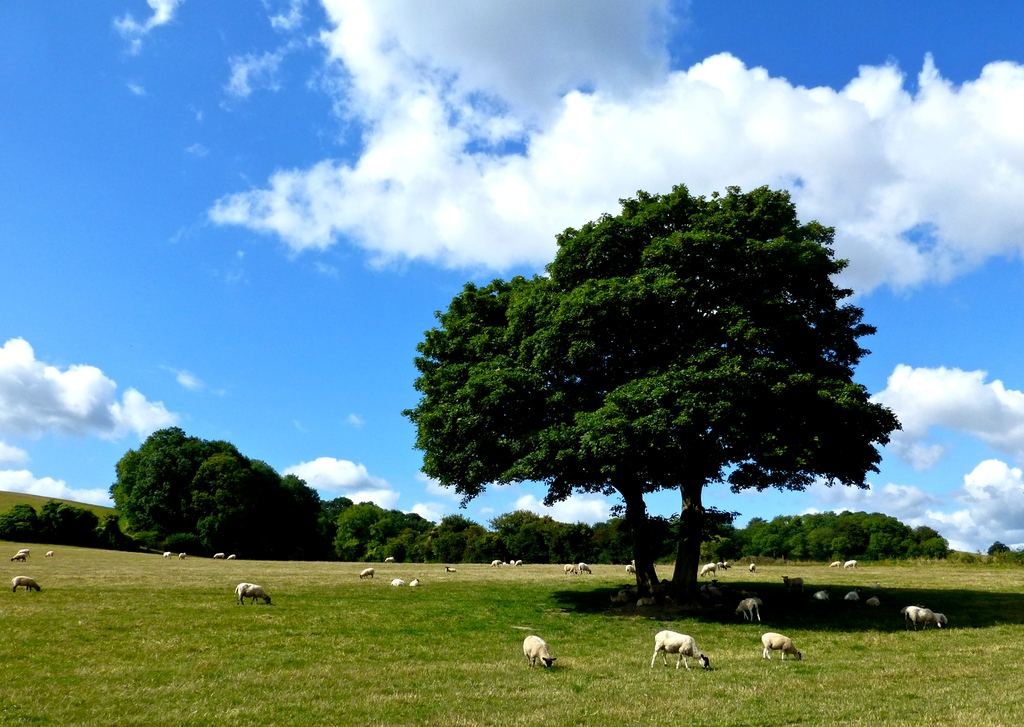sheep: (236, 580, 270, 605), (735, 595, 758, 620), (10, 575, 39, 593), (782, 573, 804, 591), (842, 590, 858, 604), (702, 561, 715, 578), (577, 561, 590, 575), (816, 589, 829, 602), (12, 552, 26, 564), (866, 595, 878, 607), (359, 568, 374, 577), (563, 564, 574, 575), (394, 578, 407, 586), (845, 559, 854, 570), (488, 559, 501, 566), (715, 561, 723, 570), (410, 579, 418, 587), (227, 552, 236, 559), (444, 566, 456, 571), (829, 561, 837, 568), (384, 557, 394, 562), (749, 563, 755, 571), (213, 552, 222, 557), (514, 558, 520, 565), (48, 549, 53, 557), (165, 552, 172, 557), (724, 563, 729, 568), (181, 550, 183, 562)
